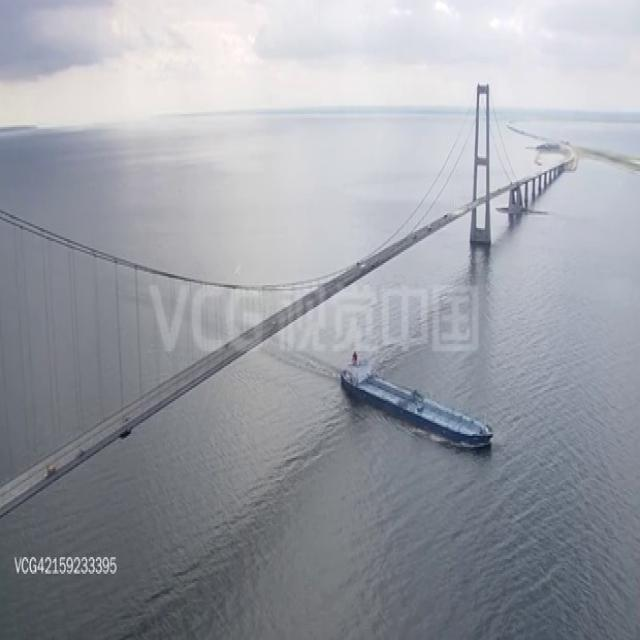cargoship: (340, 348, 497, 453)
